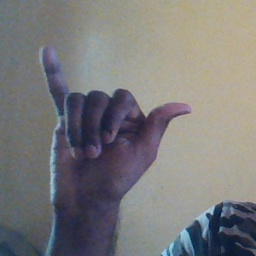J: (35, 44, 192, 198)
